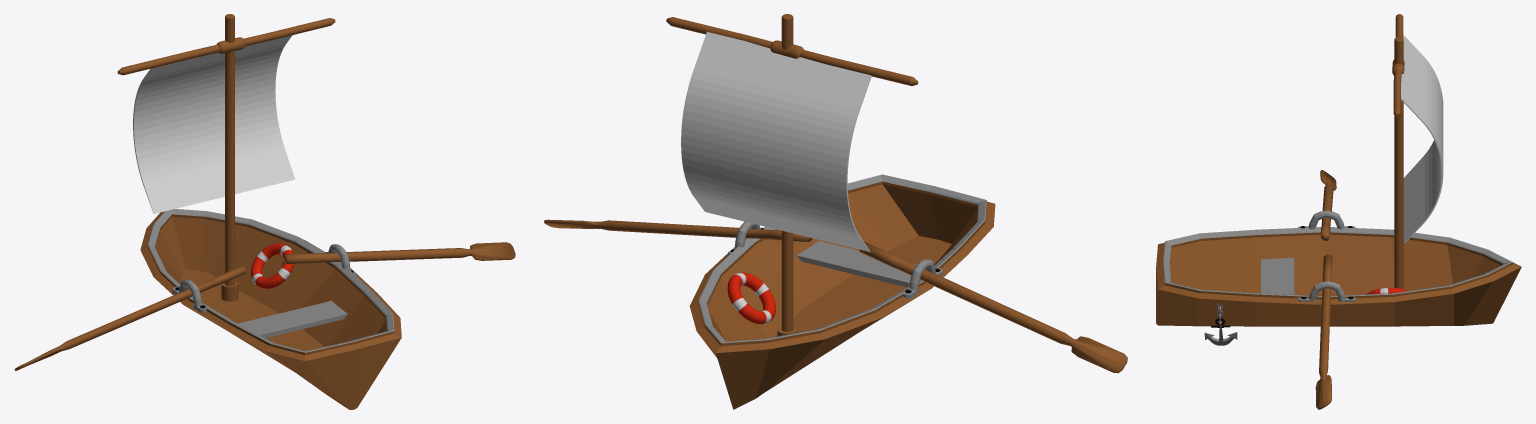
Rendered from Boat.fbx.
3 renders of one model, left to right at view 1: azimuth 30°, elevation 25°; view 2: azimuth 150°, elevation 25°; view 3: azimuth 270°, elevation 25°, orthographic. The views are drawn at different scales.
Visible parts, largest first — view 1: Torus.002; view 2: Torus.002; view 3: Torus.002.
Part boxes in pixels (x1,y1,x2,y2): Torus.002: (14,14,515,409); Torus.002: (544,14,1127,409); Torus.002: (1156,14,1521,409).
Bounding box in the file's own units: 276 × 162 × 185.
